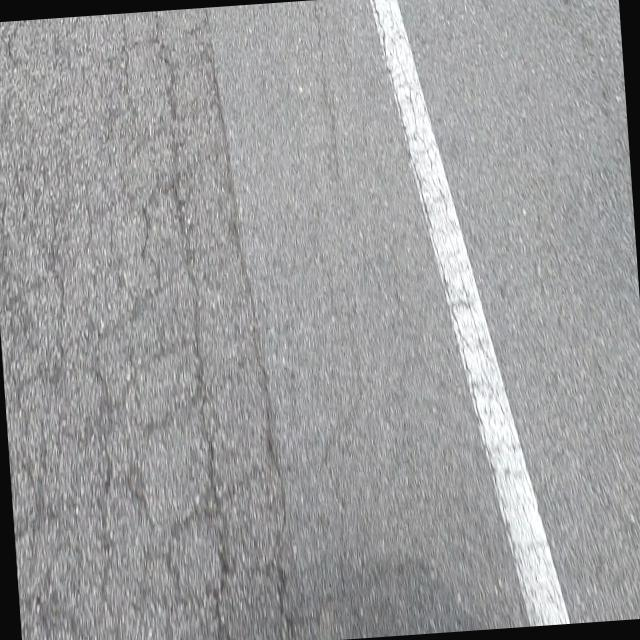Retak-Buaya: (8, 23, 293, 640)
